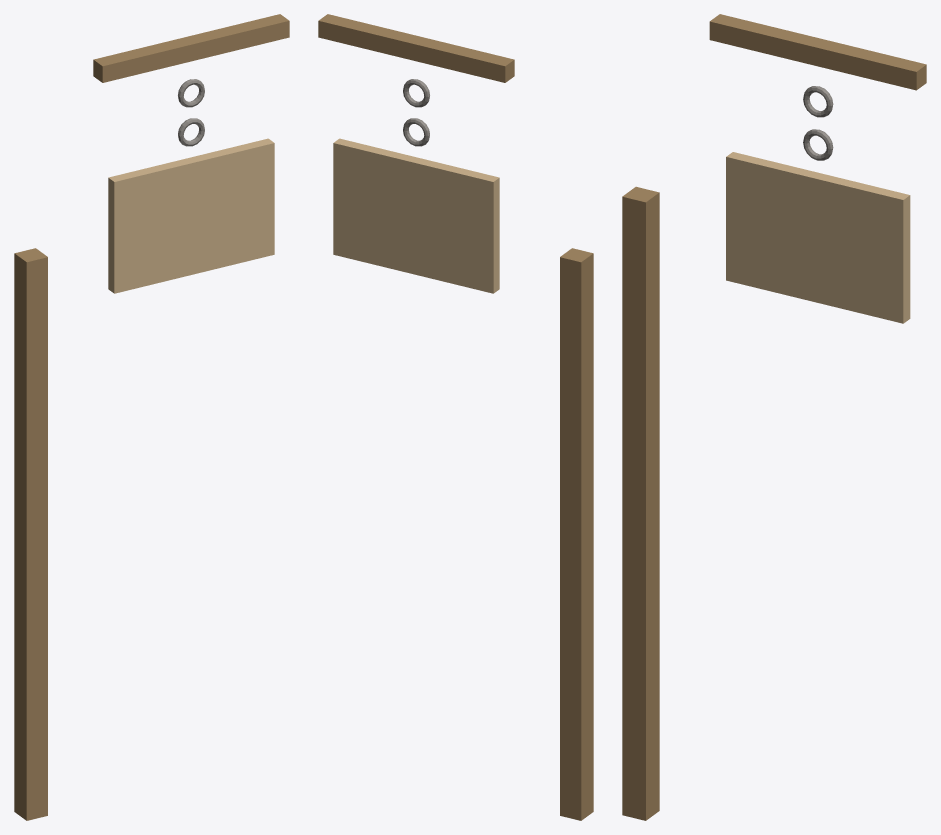
Rendered from Signboard_1.glb.
3 views of the same model, side by side, from view 1: azimuth 30°, elevation 25°; view 2: azimuth 150°, elevation 25°; view 3: azimuth 330°, elevation 25° (orthographic). The views are drawn at different scales.
Parts seen in each view (by area): view 1: Signboard_1; view 2: Signboard_1; view 3: Signboard_1.
Boxes of the visible parts, left/top/right/bottom form: Signboard_1: left=14, top=14, right=289, bottom=820; Signboard_1: left=318, top=14, right=593, bottom=820; Signboard_1: left=622, top=14, right=926, bottom=820.
Bounding box in the file's own units: 0.495 × 1.31 × 0.04.
